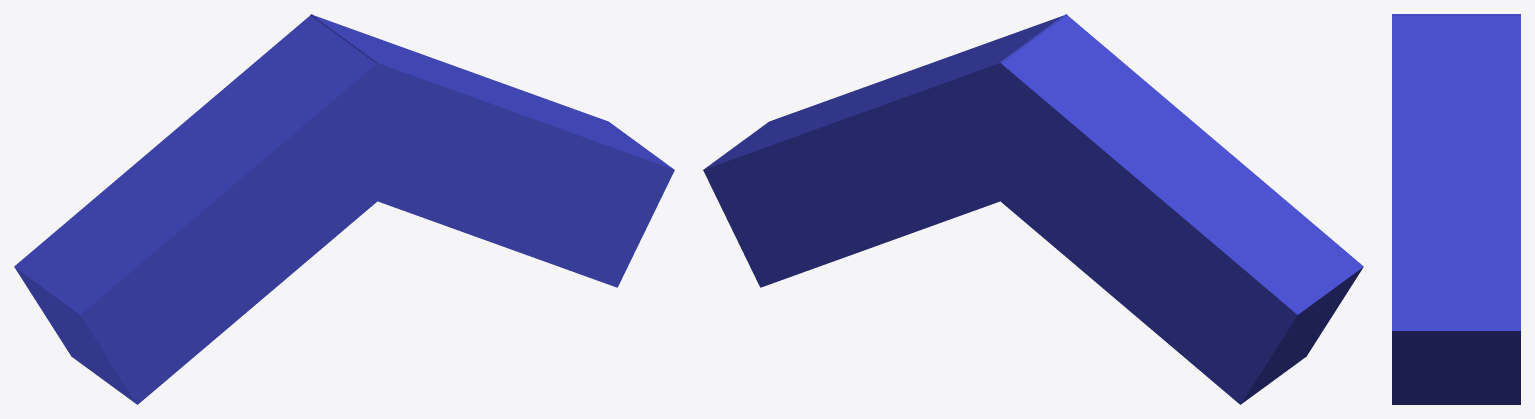
The model's file is slope30.dae.
3 views of the same model, side by side, from view 1: azimuth 30°, elevation 25°; view 2: azimuth 150°, elevation 25°; view 3: azimuth 270°, elevation 25° (orthographic). The views are drawn at different scales.
Visible parts, largest first — view 1: Cube_022, Cube_023; view 2: Cube_022, Cube_023; view 3: Cube_023, Cube_022.
Boxes of the visible parts, <box> form: Cube_022: <box>14,14,406,404</box>; Cube_023: <box>310,14,674,287</box>; Cube_022: <box>942,14,1363,404</box>; Cube_023: <box>703,14,1067,287</box>; Cube_023: <box>1392,14,1520,404</box>; Cube_022: <box>1392,14,1520,15</box>.
Bounding box in the file's own units: 10.37 × 2 × 4.73.
